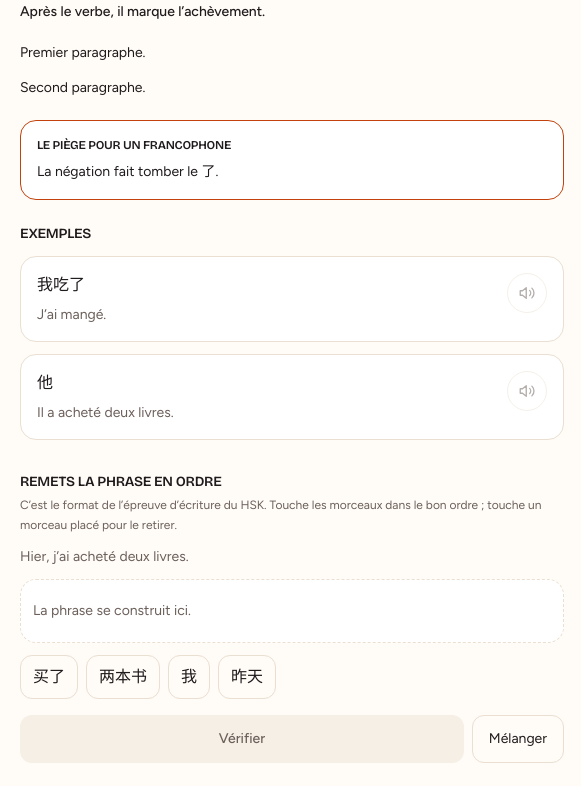
PointScreen › refuse un ordre faux et situe la première erreur
(page scrolled)
Click the button "买了" at point(49, 677), box 20,655 -> 78,699
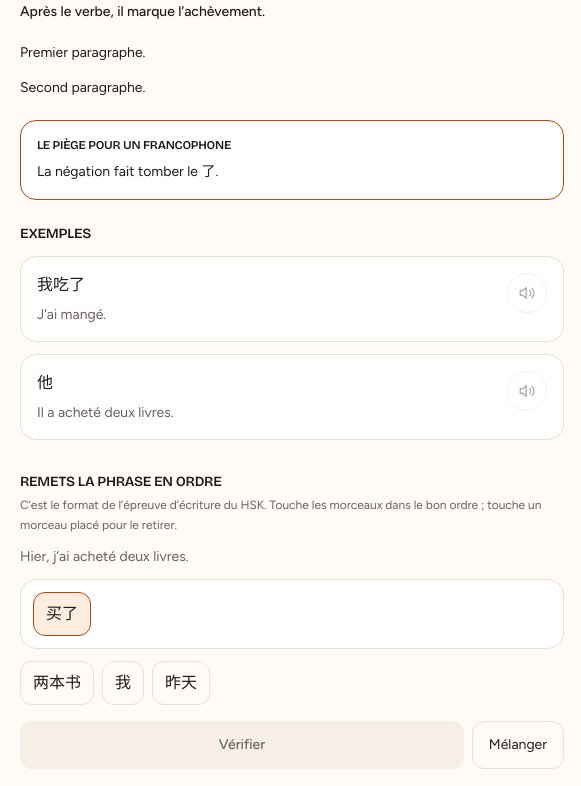
Click the button named "Placer 我" at point(123, 683), box 102,661 -> 144,705
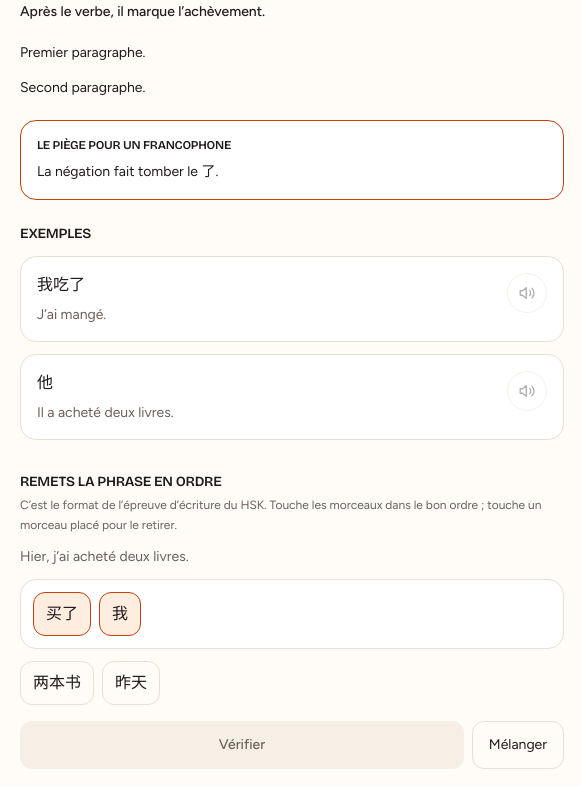
Click the button "昨天" at point(131, 683), box 102,661 -> 160,705
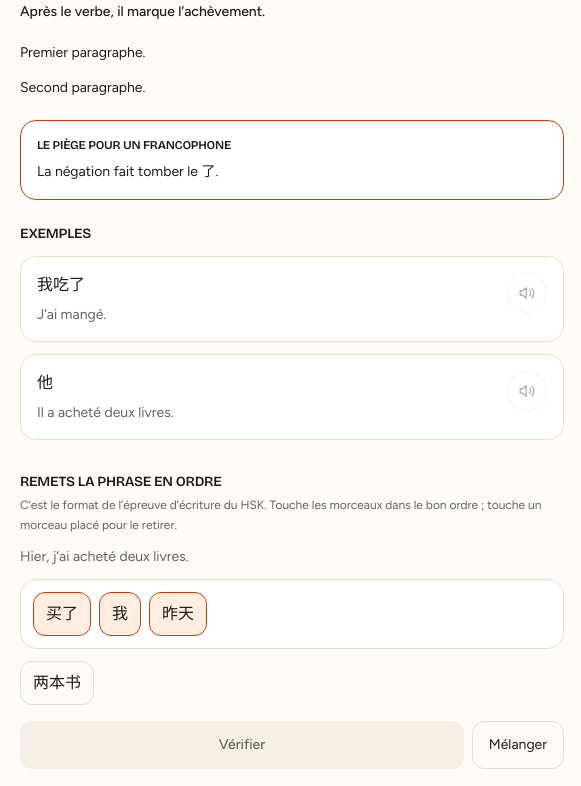
Click the button "两本书" at point(57, 683), box 20,661 -> 94,705
(page scrolled)
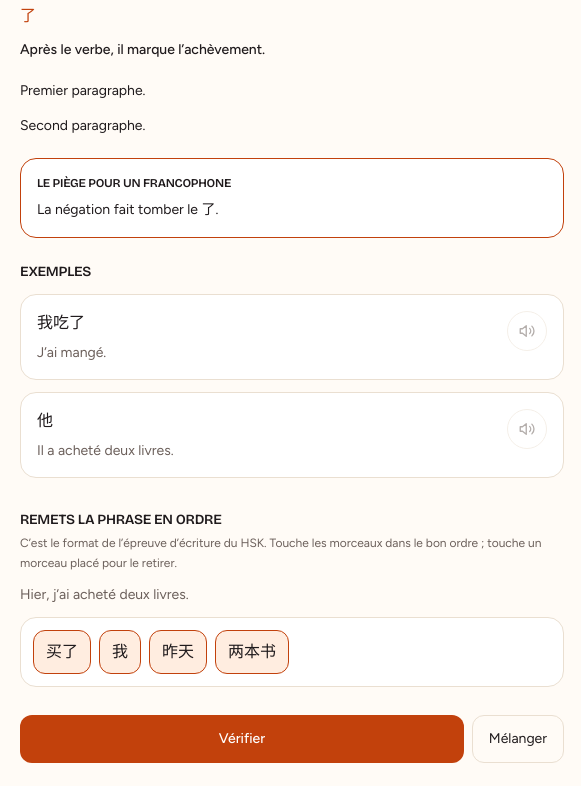
Click the button "Vérifier" at point(242, 739), box 20,715 -> 464,763
(page scrolled)
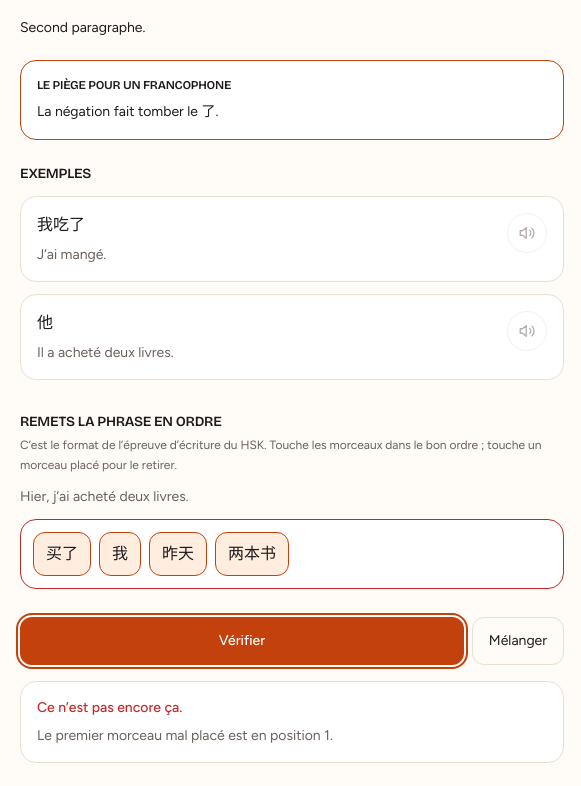
Now the text "Ce n’est pas encore ça." is shown, box 37,699 -> 182,716
Now the text "Le premier morceau mal placé est en position 1." is shown, box 37,727 -> 333,744
